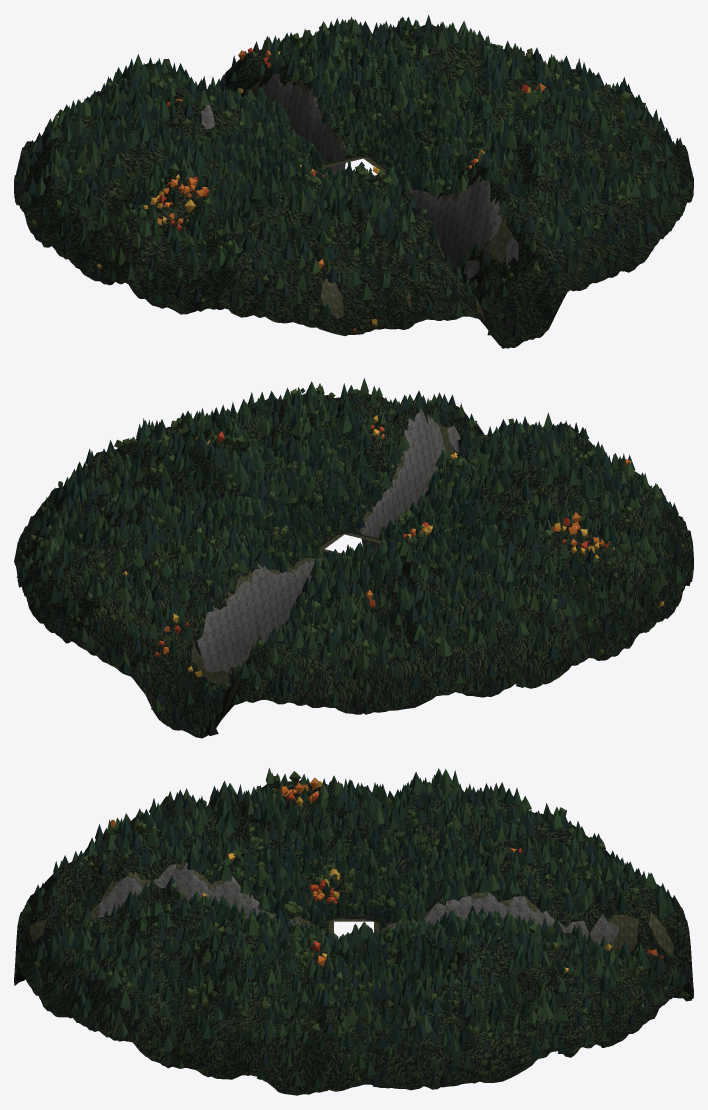
File: backdrop_near_rect_weald_summer.glb
3 views of the same model, one above another, from view 1: azimuth 30°, elevation 25°; view 2: azimuth 150°, elevation 25°; view 3: azimuth 270°, elevation 25° (orthographic).
Parts seen in each view (by area): view 1: near_land_S, trees_land_W_0, near_land_W, trees_land_S_0, trees_land_E_0, trees_land_N_0, near_land_E, near_land_N; view 2: near_land_N, trees_land_N_0, trees_land_W_0, near_land_W, trees_land_E_0, trees_land_S_0, near_land_S, near_land_E; view 3: near_land_E, trees_land_E_0, trees_land_W_0, trees_land_N_0, near_land_S, trees_land_S_0, near_land_N, near_land_W.
Part boxes in pixels (bbox=[...]): near_land_S: bbox=[265, 123, 681, 348]; trees_land_W_0: bbox=[14, 89, 334, 311]; near_land_W: bbox=[14, 100, 325, 317]; trees_land_S_0: bbox=[273, 117, 670, 348]; trees_land_E_0: bbox=[363, 20, 692, 212]; trees_land_N_0: bbox=[42, 15, 431, 162]; near_land_E: bbox=[356, 24, 693, 215]; near_land_N: bbox=[25, 25, 430, 175]; near_land_N: bbox=[26, 513, 441, 738]; trees_land_N_0: bbox=[34, 502, 437, 735]; trees_land_W_0: bbox=[372, 452, 690, 692]; near_land_W: bbox=[386, 464, 693, 697]; trees_land_E_0: bbox=[16, 391, 346, 592]; trees_land_S_0: bbox=[278, 378, 672, 539]; near_land_S: bbox=[274, 390, 650, 550]; near_land_E: bbox=[14, 399, 354, 596]; near_land_E: bbox=[114, 915, 594, 1095]; trees_land_E_0: bbox=[116, 909, 591, 1090]; trees_land_W_0: bbox=[136, 768, 586, 917]; trees_land_N_0: bbox=[381, 807, 691, 1041]; near_land_S: bbox=[14, 817, 328, 1040]; trees_land_S_0: bbox=[16, 807, 326, 1031]; near_land_N: bbox=[379, 823, 693, 1047]; near_land_W: bbox=[135, 779, 588, 923].
Bounding box in the file's own units: 576 × 178 × 576.
4 materials, 3 textured.
